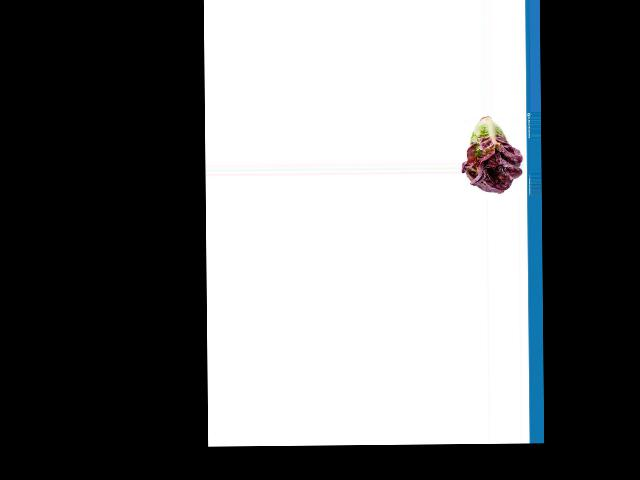lettuce: (463, 115, 523, 192)
